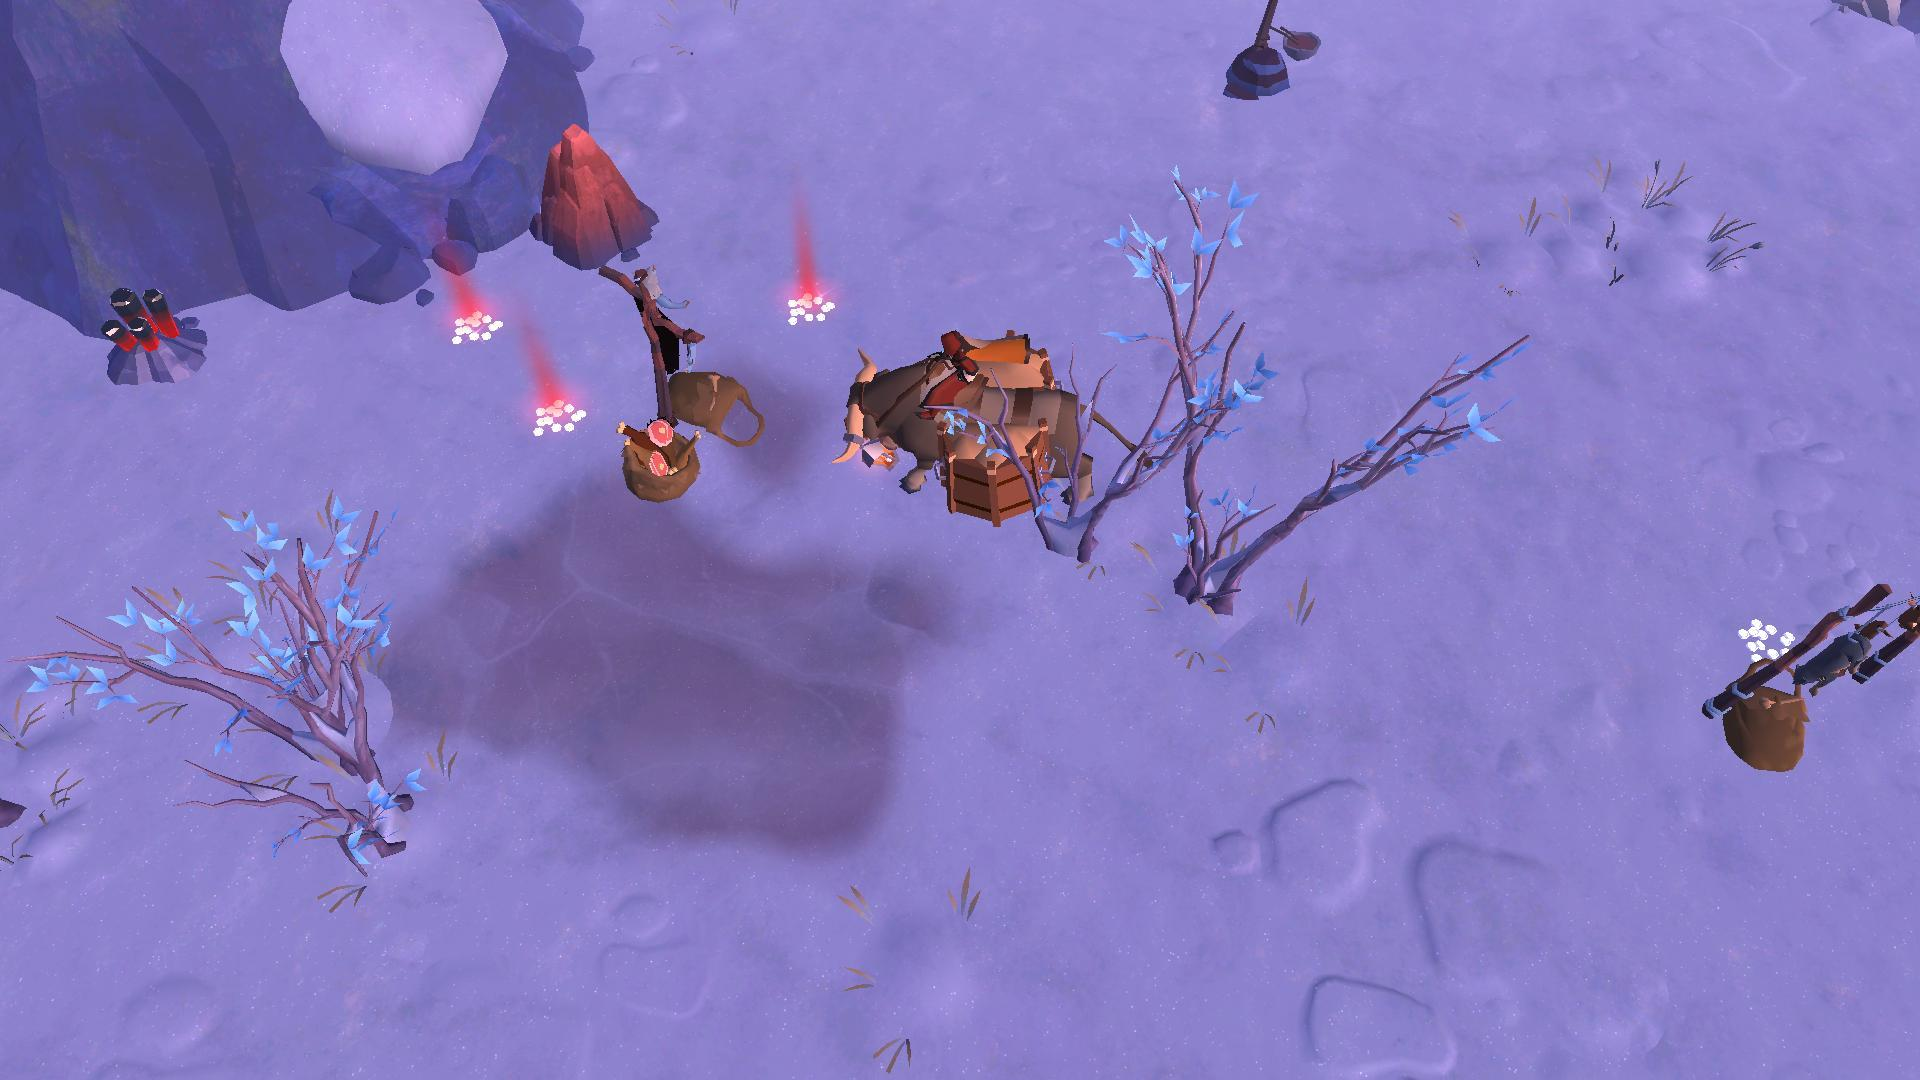ore_t5: (99, 282, 178, 351)
rock_t5: (524, 124, 658, 272)
